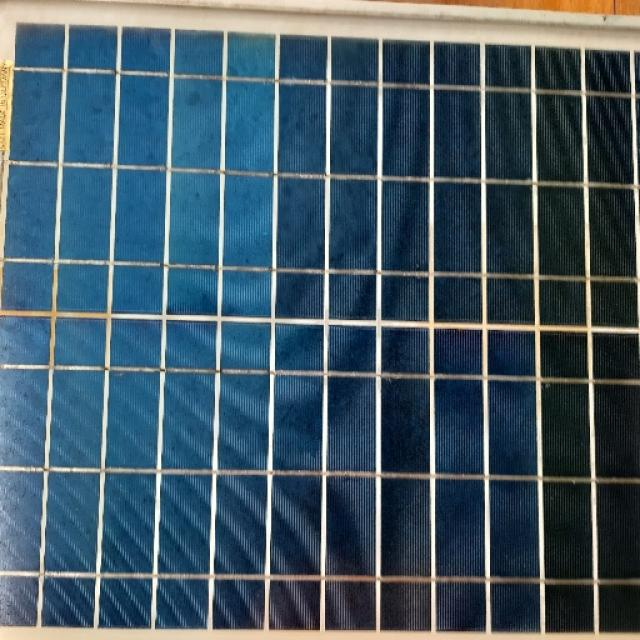Clean: (0, 38, 640, 640)
